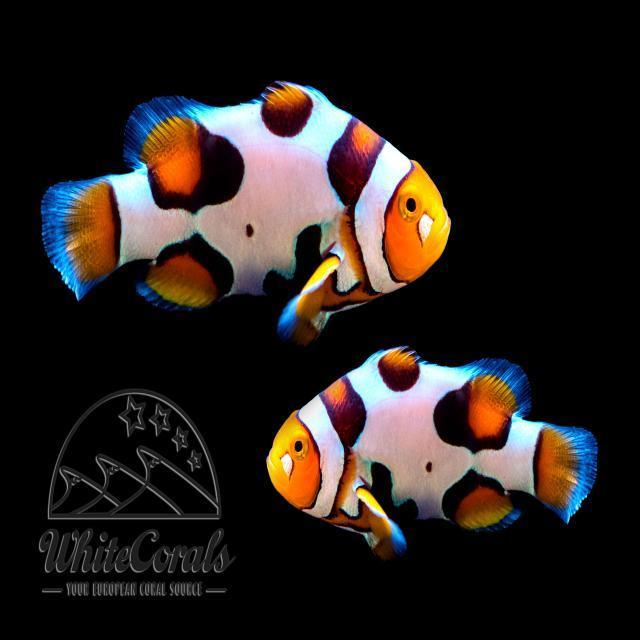ClownFish: (41, 80, 450, 337), (271, 343, 600, 554)
